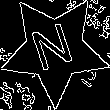N_S: (29, 20, 81, 79)
